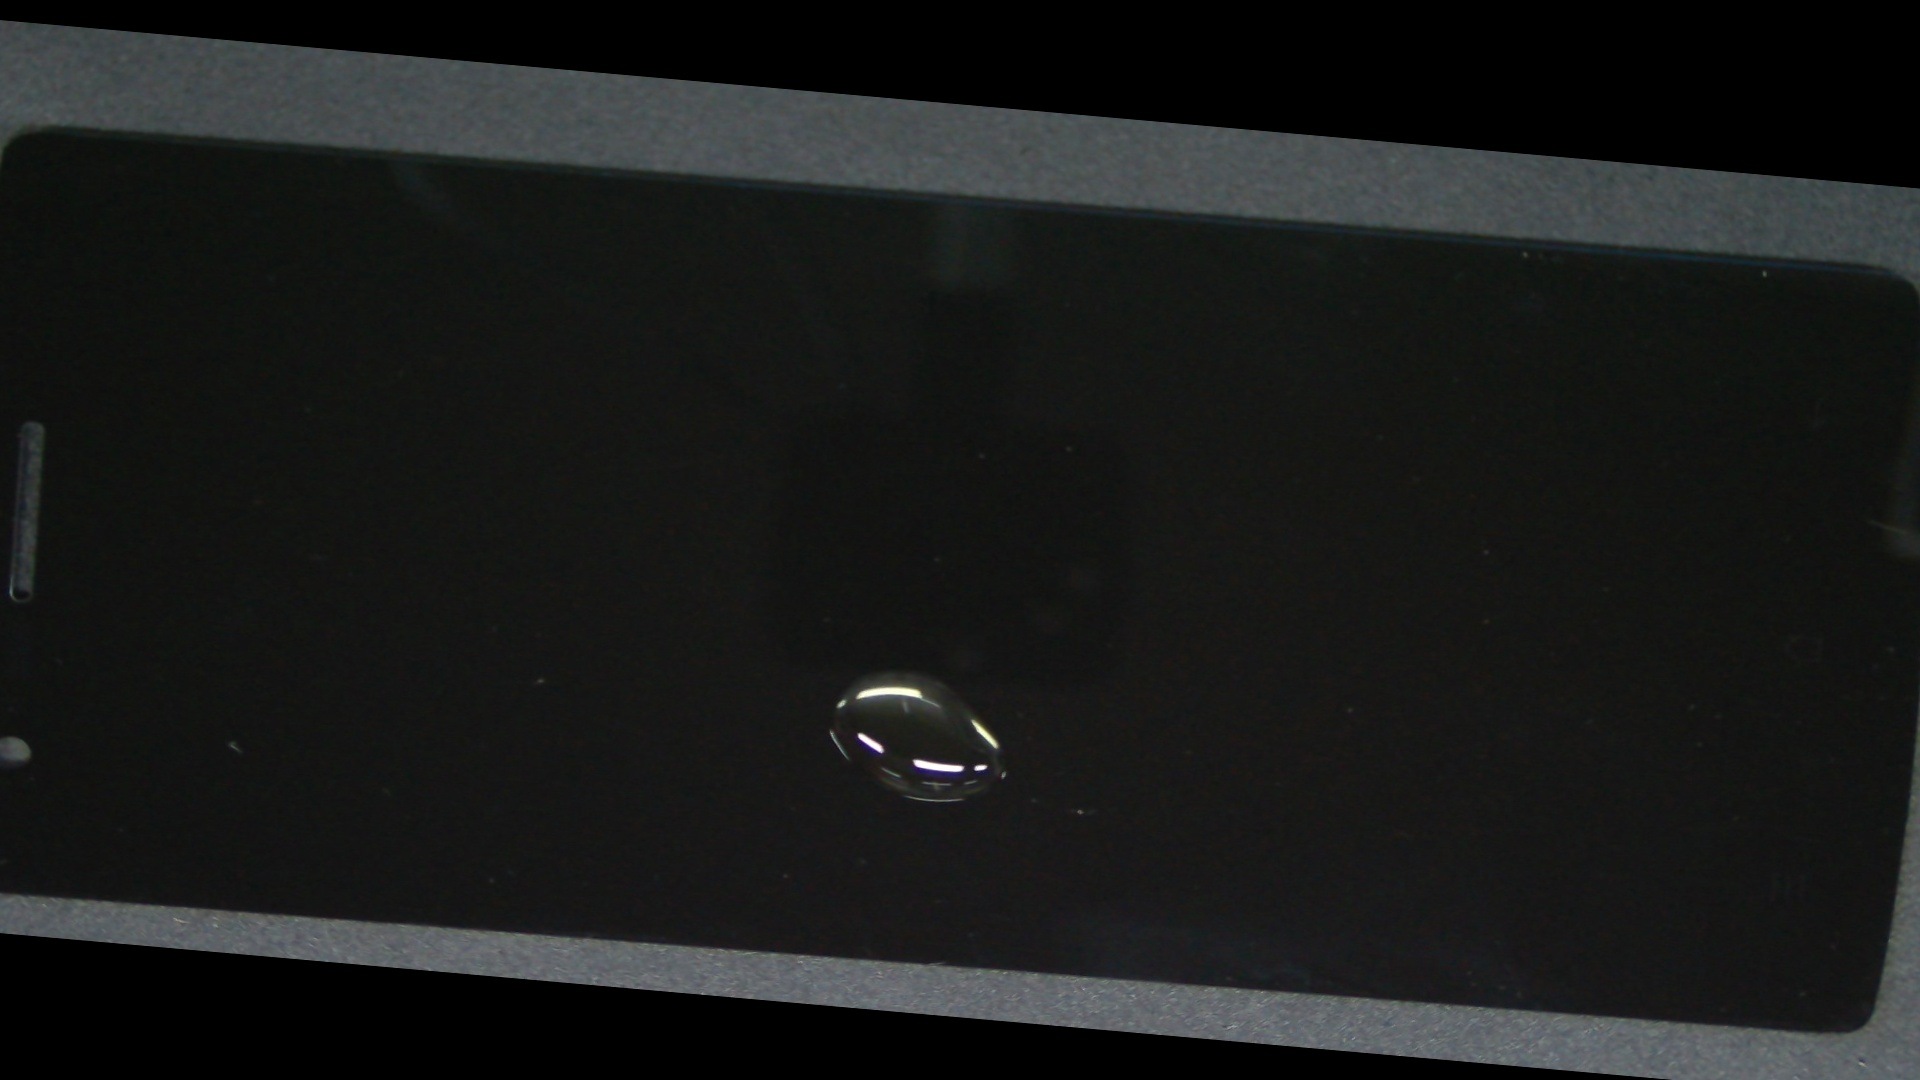oil: (373, 342, 1418, 997)
